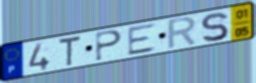4: (27, 41, 52, 72)
E: (127, 21, 158, 57)
P: (94, 29, 124, 62)
R: (166, 15, 199, 52)
S: (199, 11, 230, 44)
T: (57, 34, 83, 68)
